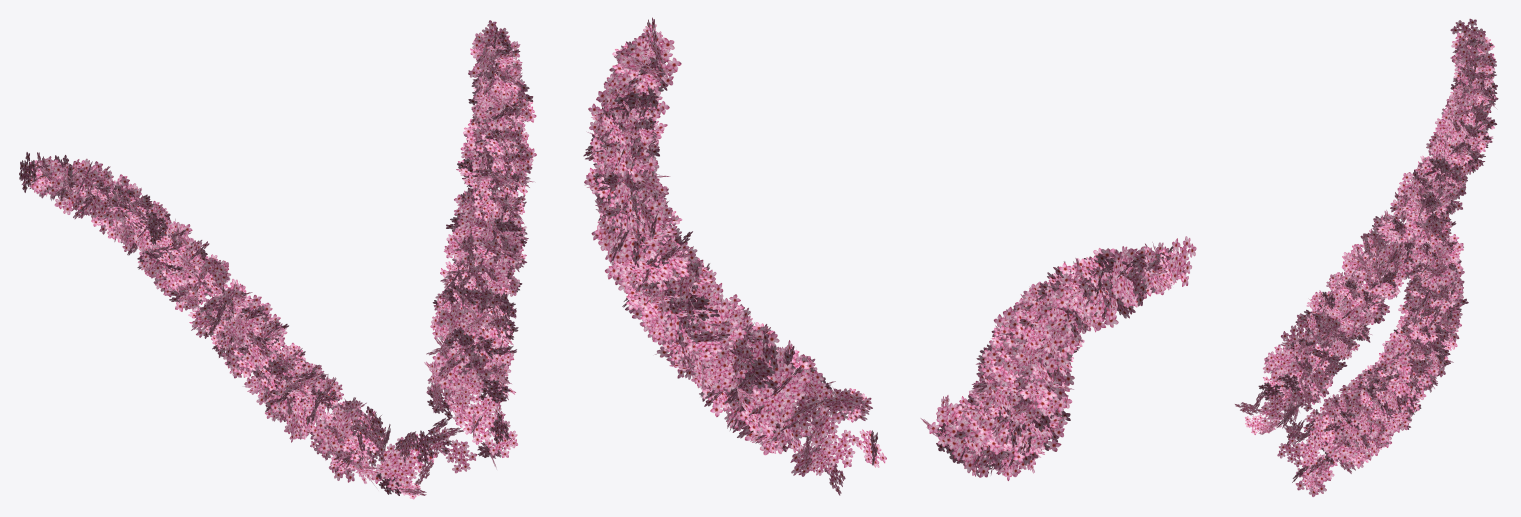
File: branch-flowers01-art.glb
3 views of the same model, side by side, from view 1: azimuth 30°, elevation 25°; view 2: azimuth 150°, elevation 25°; view 3: azimuth 270°, elevation 25° (orthographic). The views are drawn at different scales.
Visible parts, largest first — view 1: BranchFlowers01_Art; view 2: BranchFlowers01_Art; view 3: BranchFlowers01_Art.
Boxes of the visible parts, x1,y1,x2,y2 form: BranchFlowers01_Art: [19, 20, 536, 499]; BranchFlowers01_Art: [583, 17, 1196, 495]; BranchFlowers01_Art: [1235, 18, 1498, 497].
Bounding box in the file's own units: 15.6 × 12.08 × 8.28.
1 material, 1 textured.
